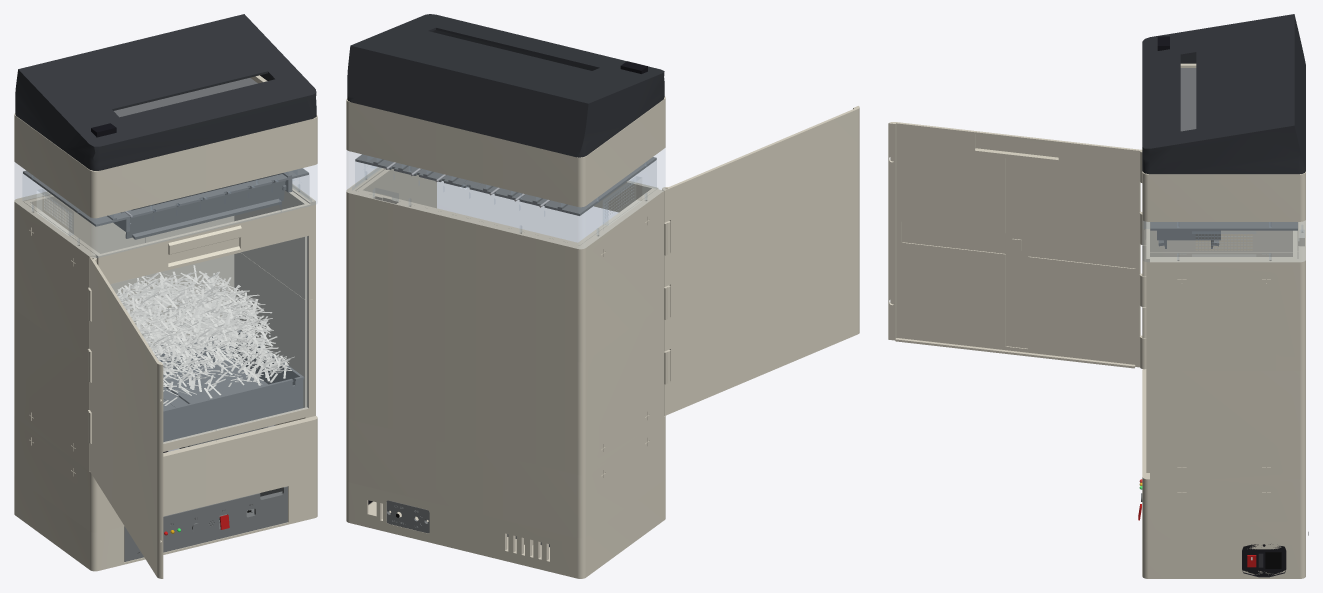
3 views of the same model, side by side, from view 1: azimuth 30°, elevation 25°; view 2: azimuth 150°, elevation 25°; view 3: azimuth 270°, elevation 25° (orthographic). The views are drawn at different scales.
Parts seen in each view (by area): view 1: s2_bin, head, s2_outer, s2_door, c1_box, s4, s2_paper, s3, s2_tray, c0_box, c0_drawer; view 2: s2_outer, s2_door, head, c1_box, s4, s3, c0_box, s2_bin, c0_fix; view 3: s2_door, s2_outer, head, c1_box, s4, s3, c0_box, s2_bin, c0_fix.
Boxes of the visible parts, x1=… form: s2_bin: x1=24, y1=190, x2=310, y2=451; head: x1=15, y1=14, x2=316, y2=170; s2_outer: x1=14, y1=184, x2=315, y2=470; s2_door: x1=90, y1=257, x2=163, y2=578; c1_box: x1=14, y1=416, x2=317, y2=532; s4: x1=14, y1=75, x2=317, y2=218; s2_paper: x1=116, y1=265, x2=294, y2=405; s3: x1=15, y1=163, x2=316, y2=257; s2_tray: x1=149, y1=330, x2=304, y2=441; c0_box: x1=14, y1=476, x2=317, y2=571; c0_drawer: x1=124, y1=486, x2=287, y2=561; s2_outer: x1=346, y1=167, x2=670, y2=475; s2_door: x1=662, y1=106, x2=859, y2=415; head: x1=347, y1=14, x2=664, y2=157; c1_box: x1=346, y1=416, x2=665, y2=538; s4: x1=346, y1=96, x2=665, y2=207; s3: x1=347, y1=149, x2=664, y2=248; c0_box: x1=346, y1=479, x2=665, y2=578; s2_bin: x1=356, y1=169, x2=658, y2=245; c0_fix: x1=368, y1=500, x2=429, y2=533; s2_door: x1=888, y1=122, x2=1146, y2=369; s2_outer: x1=1142, y1=220, x2=1305, y2=479; head: x1=1142, y1=14, x2=1305, y2=174; c1_box: x1=1142, y1=369, x2=1305, y2=539; s4: x1=1142, y1=63, x2=1305, y2=221; s3: x1=1143, y1=221, x2=1305, y2=261; c0_box: x1=1142, y1=538, x2=1305, y2=578; s2_bin: x1=1144, y1=221, x2=1297, y2=472; c0_fix: x1=1242, y1=532, x2=1308, y2=577.
Size of the model in its own units: 0.4404 by 0.651 by 0.547.
